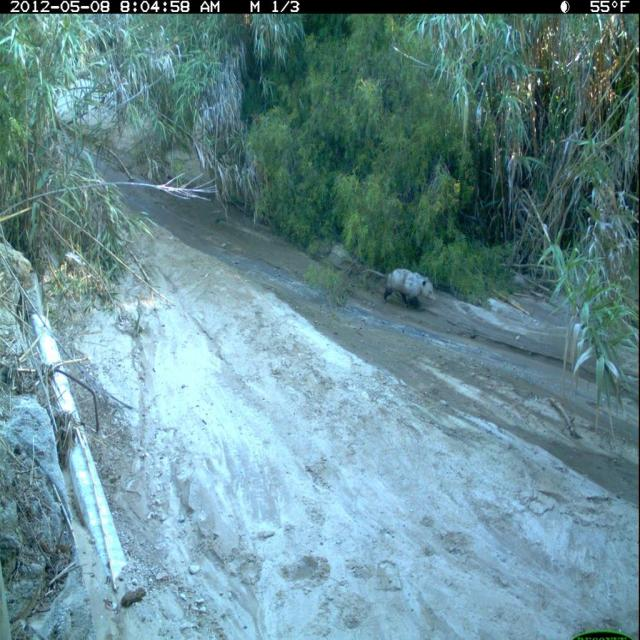opossum: (356, 264, 439, 314)
